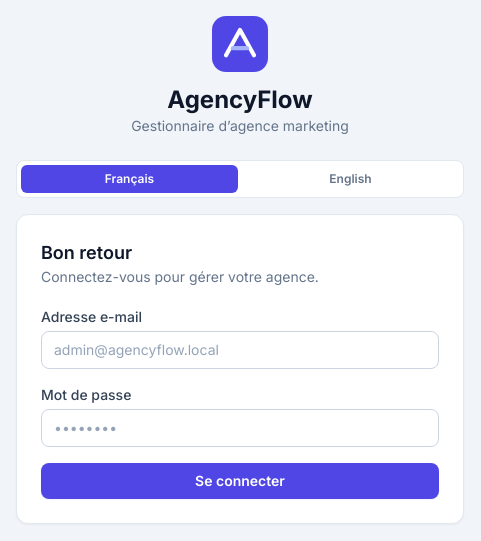
Test: Login page › switches to English when the language toggle is clicked
Click the button "English".
click(350, 179)  # box [242,165,459,193]
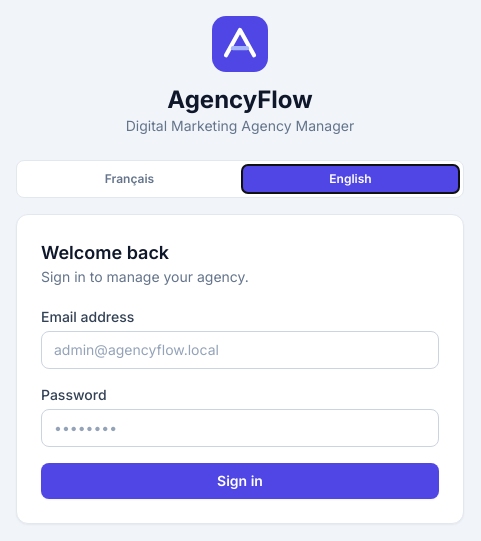
Expected: the heading "Welcome back" is shown, [41,242,169,263]
